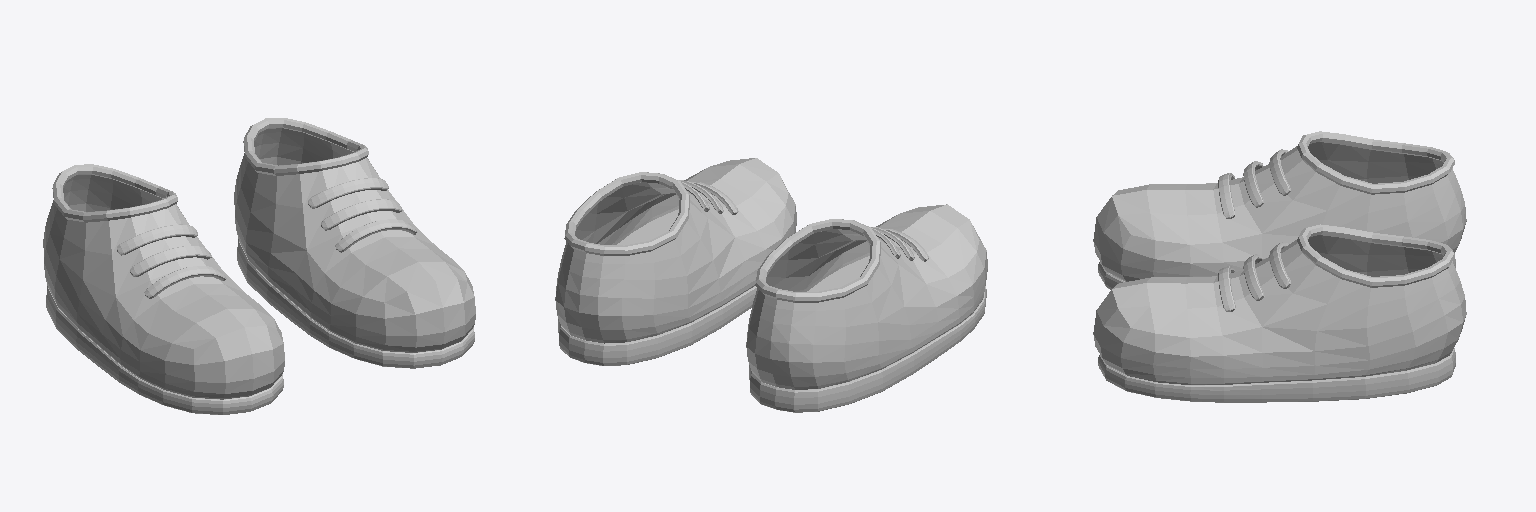
The model's file is Shoes-LowPoly.obj.
3 renders of one model, left to right at view 1: azimuth 30°, elevation 25°; view 2: azimuth 150°, elevation 25°; view 3: azimuth 270°, elevation 25°, orthographic.
Parts seen in each view (by area): view 1: Shoes_01_R_, Shoes_01_L_; view 2: Shoes_01_R_, Shoes_01_L_; view 3: Shoes_01_L_, Shoes_01_R_.
Boxes of the visible parts, x1=… form: Shoes_01_R_: x1=43, y1=164, x2=284, y2=414; Shoes_01_L_: x1=234, y1=118, x2=475, y2=368; Shoes_01_R_: x1=746, y1=204, x2=987, y2=412; Shoes_01_L_: x1=555, y1=158, x2=796, y2=365; Shoes_01_L_: x1=1093, y1=224, x2=1466, y2=402; Shoes_01_R_: x1=1093, y1=131, x2=1466, y2=289.
Bounding box in the file's own units: 63.59 × 24.7 × 62.26.